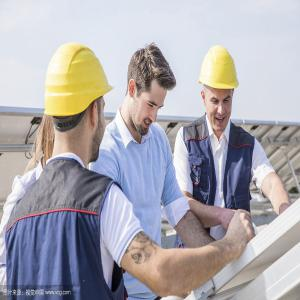none: (122, 44, 178, 138)
yellow: (44, 40, 111, 165), (200, 44, 242, 133)
